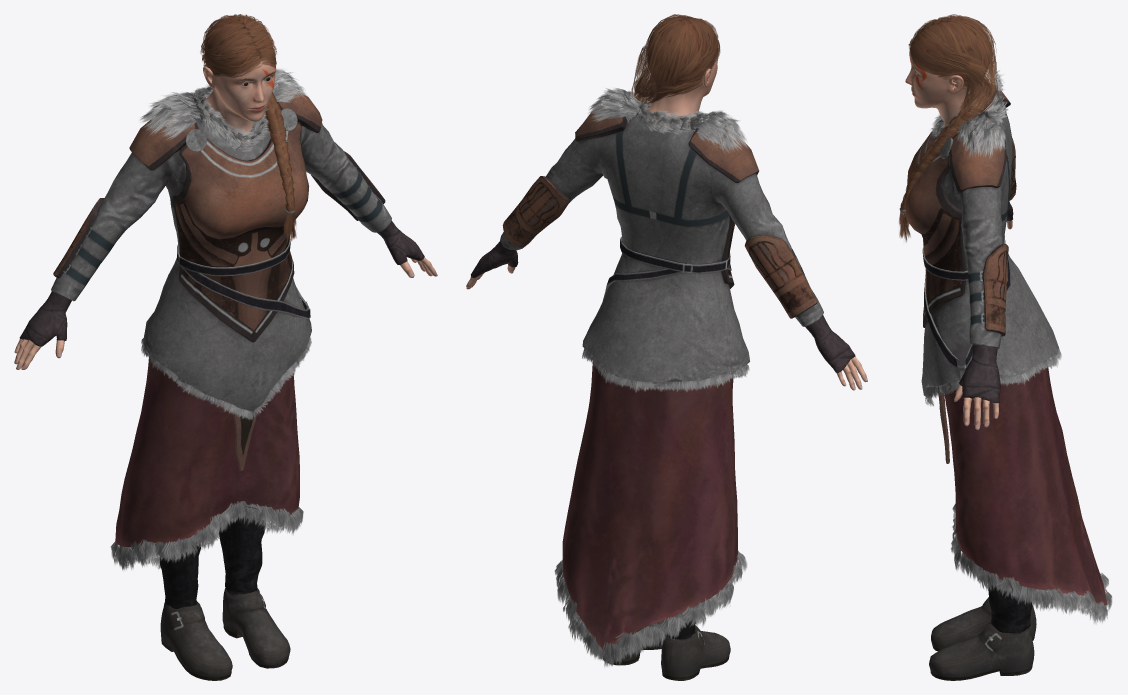
File: viking_girl.glb
3 views of the same model, side by side, from view 1: azimuth 30°, elevation 25°; view 2: azimuth 150°, elevation 25°; view 3: azimuth 270°, elevation 25° (orthographic). The views are drawn at different scales.
Parts seen in each view (by area): view 1: Object_2, Object_3, Object_4; view 2: Object_2, Object_3, Object_4; view 3: Object_2, Object_3, Object_4.
Part boxes in pixels (left/top/right/bottom): Object_2: left=51, top=16, right=391, bottom=680; Object_3: left=110, top=14, right=311, bottom=570; Object_4: left=14, top=220, right=437, bottom=369; Object_2: left=500, top=16, right=823, bottom=680; Object_3: left=554, top=14, right=749, bottom=666; Object_4: left=466, top=241, right=867, bottom=390; Object_2: left=905, top=18, right=1107, bottom=680; Object_3: left=899, top=14, right=1112, bottom=623; Object_4: left=954, top=201, right=1013, bottom=429.
Size of the model in its own units: 119 by 180 by 55.36.
2 materials, 2 textured.
